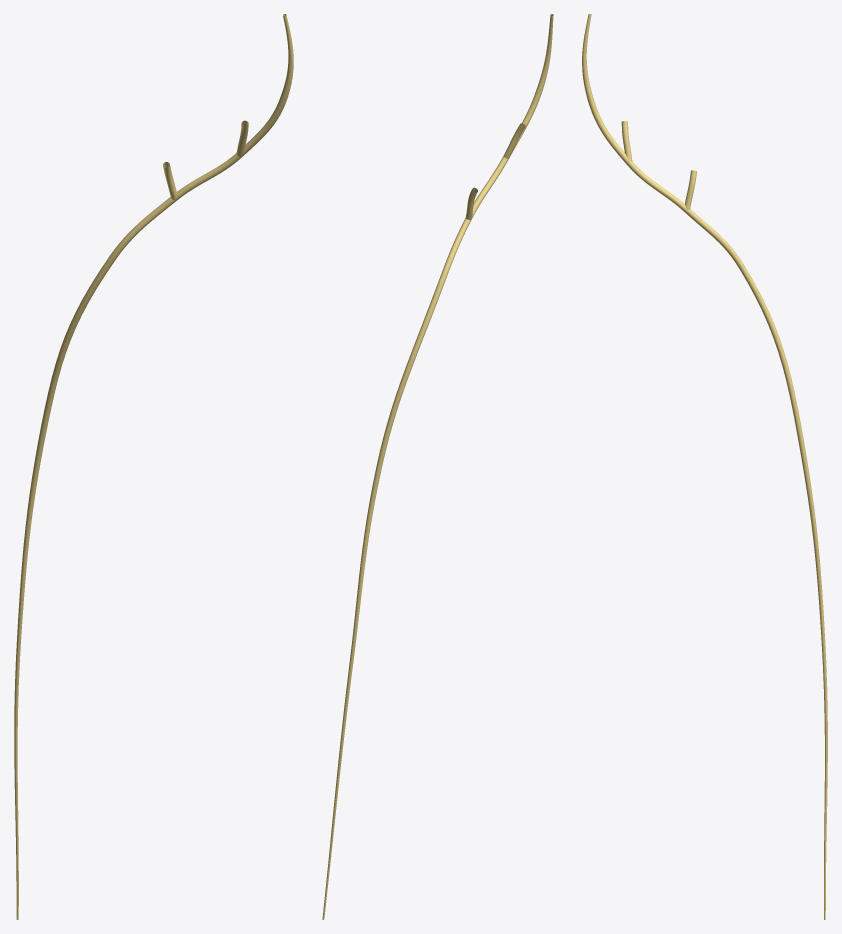
3 views of the same model, side by side, from view 1: azimuth 90°, elevation 25°; view 2: azimuth 150°, elevation 25°; view 3: azimuth 270°, elevation 25° (orthographic). The views are drawn at different scales.
Parts seen in each view (by area): view 1: ZA_1928292f99cd6117; view 2: ZA_1928292f99cd6117; view 3: ZA_1928292f99cd6117.
Boxes of the visible parts, bbox=[...] form: ZA_1928292f99cd6117: bbox=[14, 14, 293, 919]; ZA_1928292f99cd6117: bbox=[322, 14, 553, 919]; ZA_1928292f99cd6117: bbox=[582, 14, 827, 919].
Size of the model in its own units: 0.0418 by 0.297 by 0.0778.
